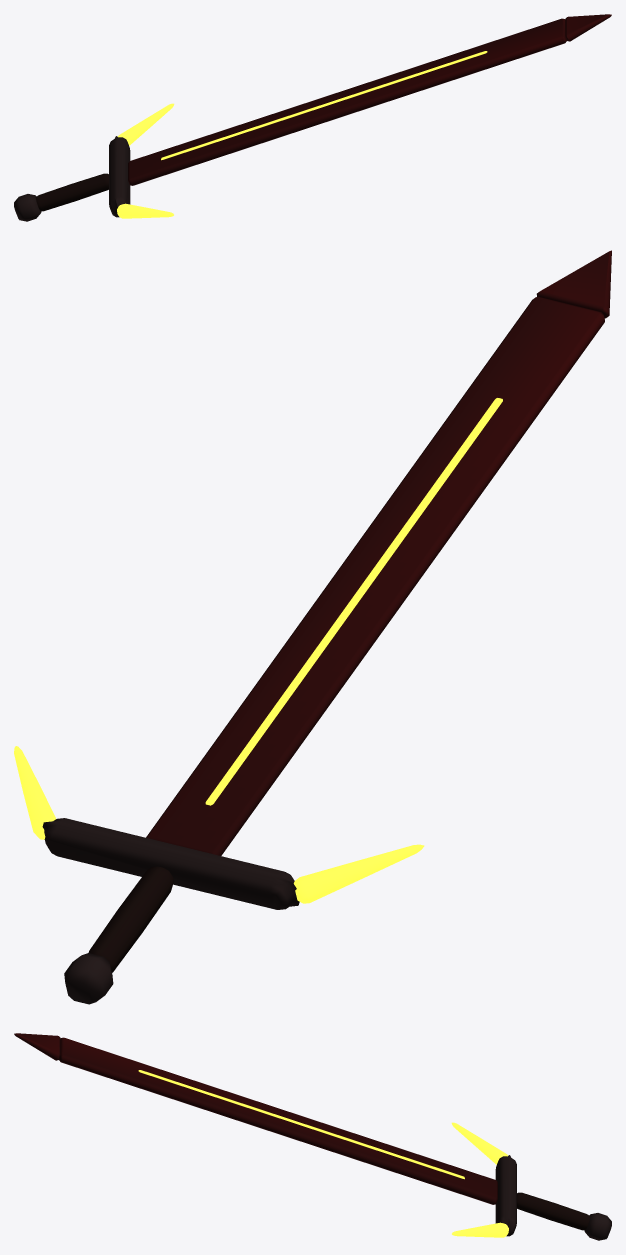
The model's file is Arma_FendenteRubro.fbx.
The picture shows the model from 3 angles, top to bottom: view 1: azimuth 90°, elevation 25°; view 2: azimuth 150°, elevation 25°; view 3: azimuth 270°, elevation 25°; orthographic projection. The views are drawn at different scales.
Parts seen in each view (by area): view 1: Piece; view 2: Piece; view 3: Piece.
Boxes of the visible parts, bbox=[...] form: Piece: bbox=[14, 14, 611, 221]; Piece: bbox=[14, 250, 611, 1004]; Piece: bbox=[14, 1033, 611, 1240].
Bounding box in the file's own units: 0.5384 × 0.4628 × 1.22.
